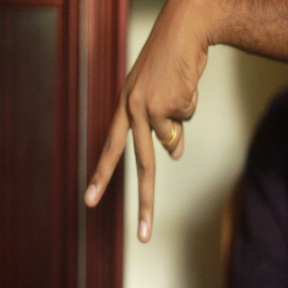Y: (82, 36, 206, 245)
